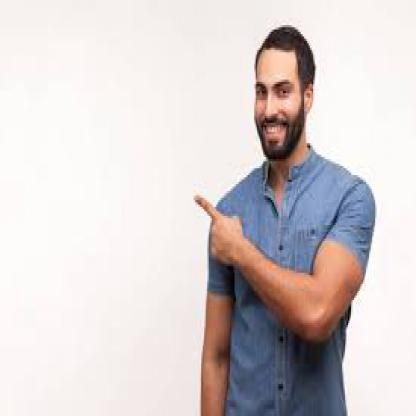Right: (196, 181, 253, 280)
